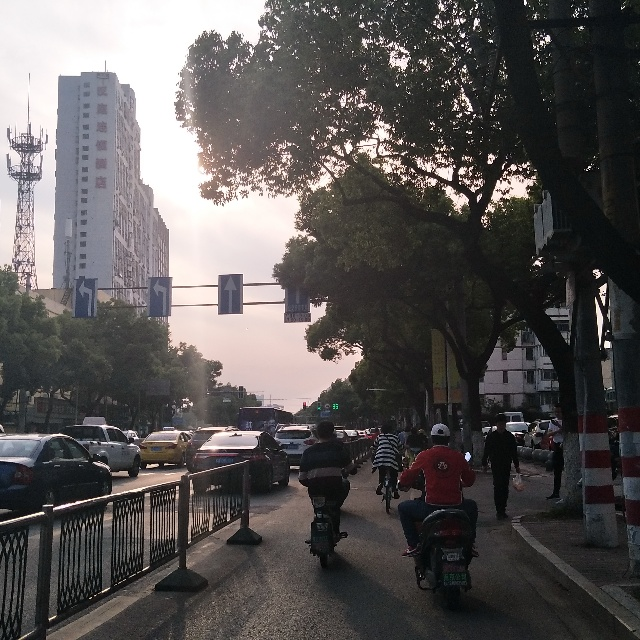left: (147, 277, 172, 317), (73, 277, 97, 318)
straight: (218, 273, 243, 314)
